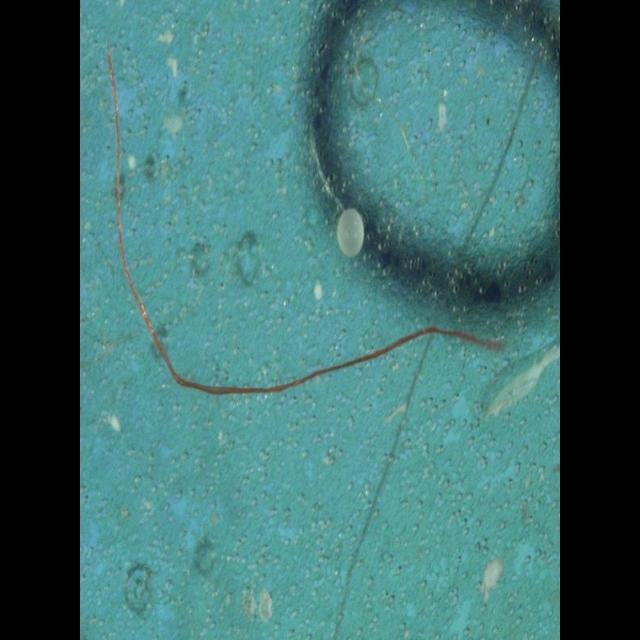Fibre: (103, 39, 513, 412)
